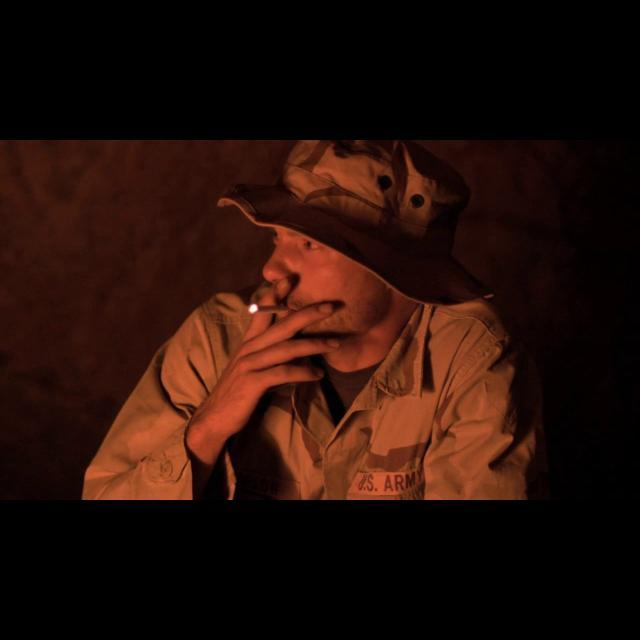rokok: (246, 300, 300, 318)
